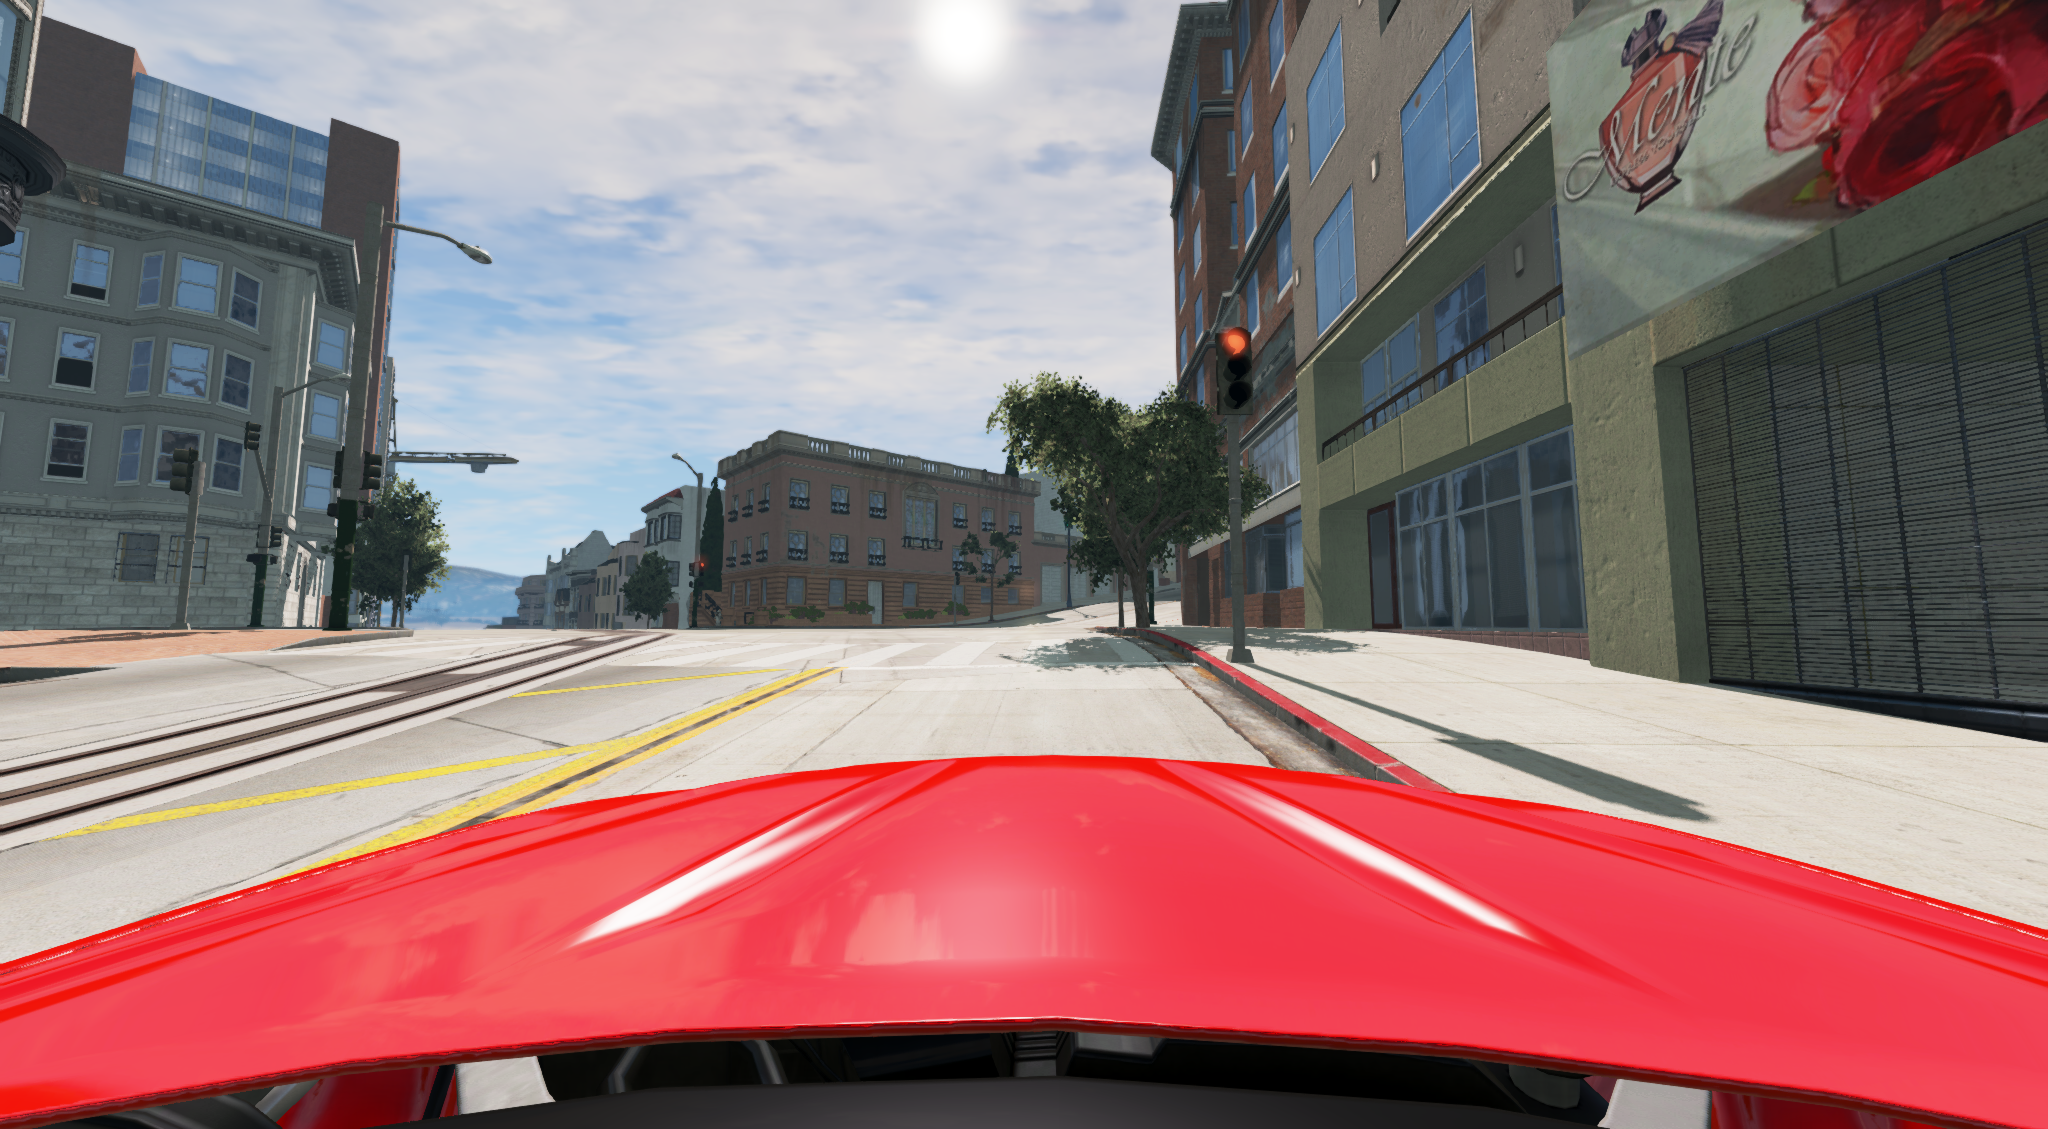red: (1205, 330, 1262, 419)
